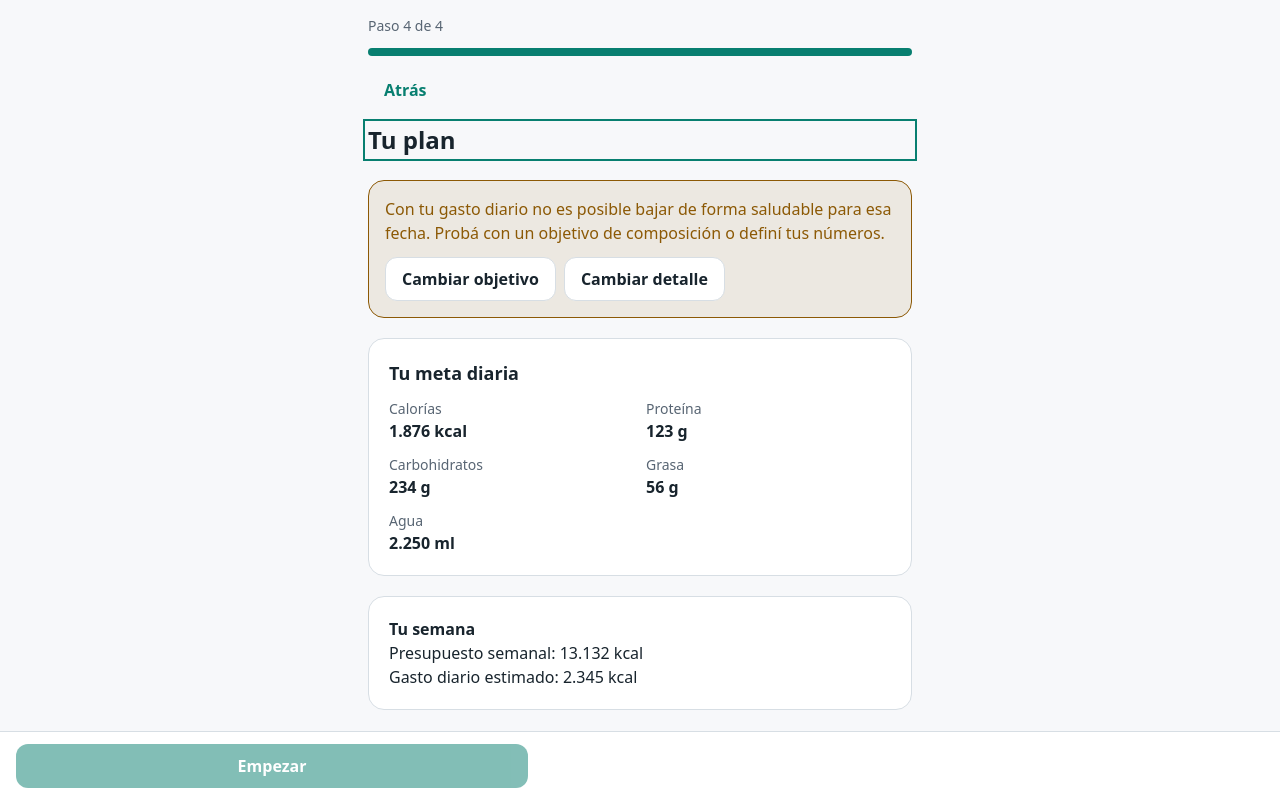
Scenario: oculta la fecha ajustada y bloquea un plan inviable con opciones para cambiarlo
This screenshot has width=1280, height=800.
Expected: the text "Con tu gasto diario no es posible" is shown, x1=385 y1=198 x2=892 y2=244
Expected: the button "Empezar" is disabled, x1=16 y1=744 x2=528 y2=788
Click the button "Cambiar objetivo" at (470, 279), box x1=385 y1=257 x2=556 y2=301
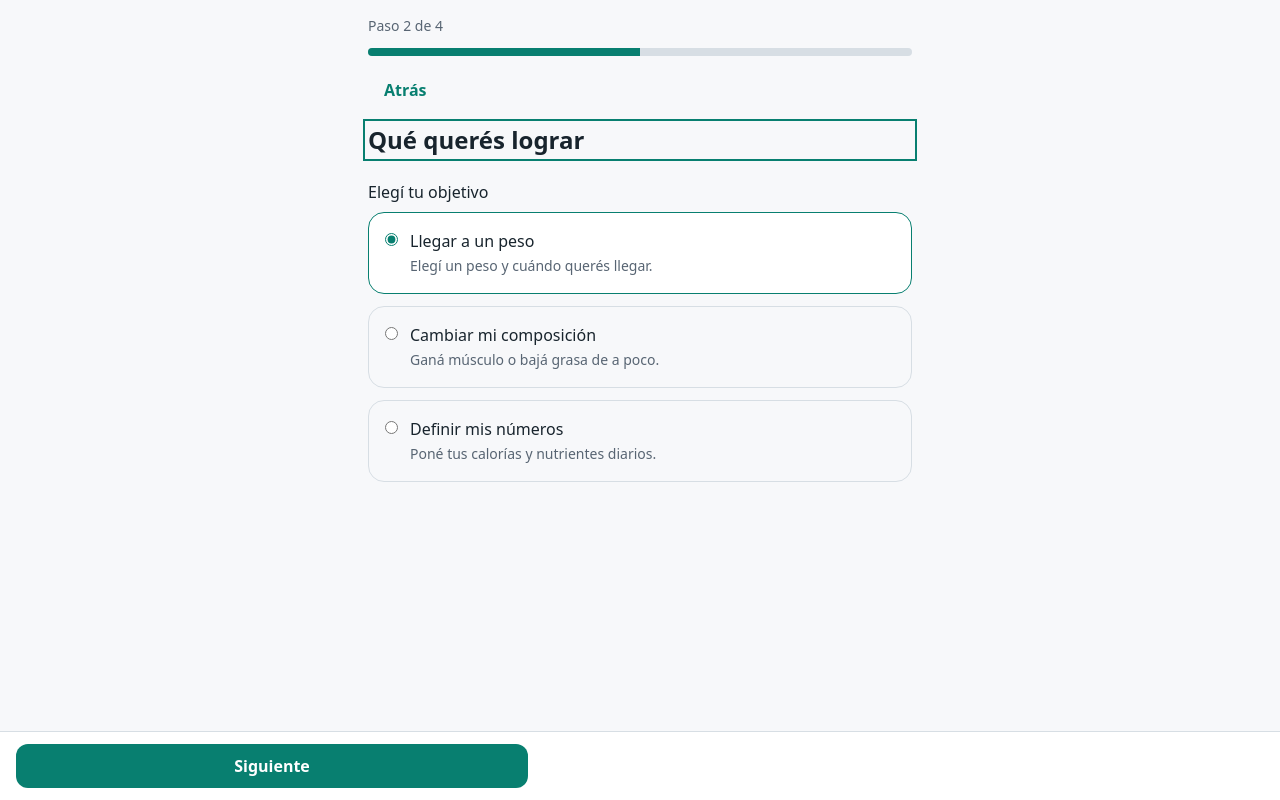
Result: the heading "Qué querés lograr" is shown at x1=368 y1=123 x2=584 y2=156
